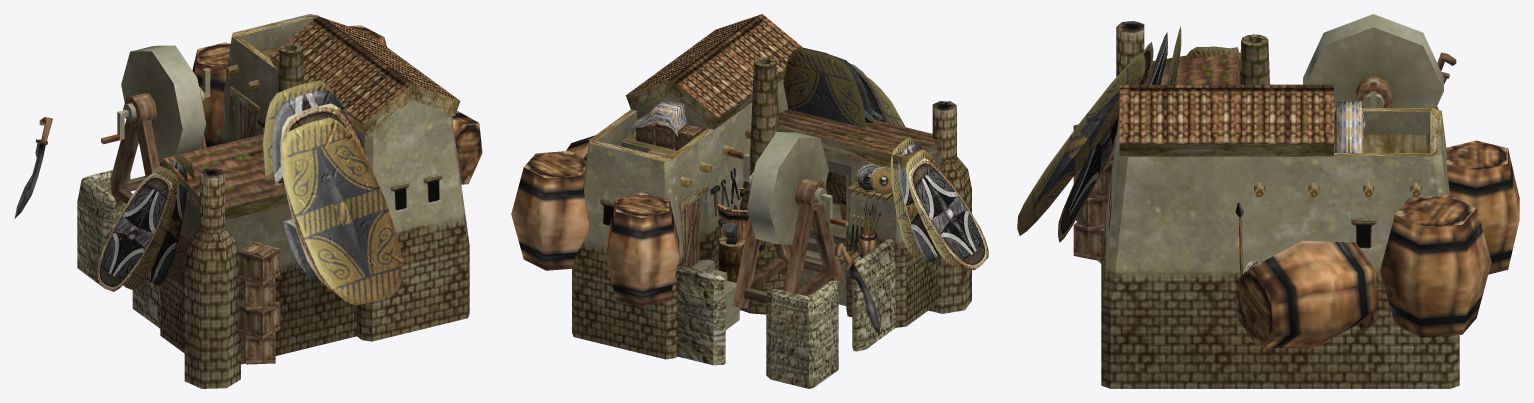
The model's file is s_iberians_blacksmith.glb.
3 views of the same model, side by side, from view 1: azimuth 30°, elevation 25°; view 2: azimuth 150°, elevation 25°; view 3: azimuth 270°, elevation 25° (orthographic). The views are drawn at different scales.
Parts seen in each view (by area): view 1: s_iberians_blacksmith_part0, s_iberians_blacksmith_part1, s_iberians_blacksmith_part2; view 2: s_iberians_blacksmith_part0, s_iberians_blacksmith_part1, s_iberians_blacksmith_part2; view 3: s_iberians_blacksmith_part0, s_iberians_blacksmith_part2, s_iberians_blacksmith_part1.
Boxes of the visible parts, x1,y1,x2,y2 form: s_iberians_blacksmith_part0: (14, 14, 469, 388); s_iberians_blacksmith_part1: (96, 80, 402, 305); s_iberians_blacksmith_part2: (192, 25, 482, 184); s_iberians_blacksmith_part0: (572, 14, 971, 388); s_iberians_blacksmith_part1: (783, 47, 988, 270); s_iberians_blacksmith_part2: (511, 135, 679, 306); s_iberians_blacksmith_part0: (1073, 14, 1459, 388); s_iberians_blacksmith_part2: (1235, 140, 1519, 348); s_iberians_blacksmith_part1: (1017, 26, 1261, 276).
Bounding box in the file's own units: 4.2 × 2.55 × 3.93.
2 materials, 2 textured.
